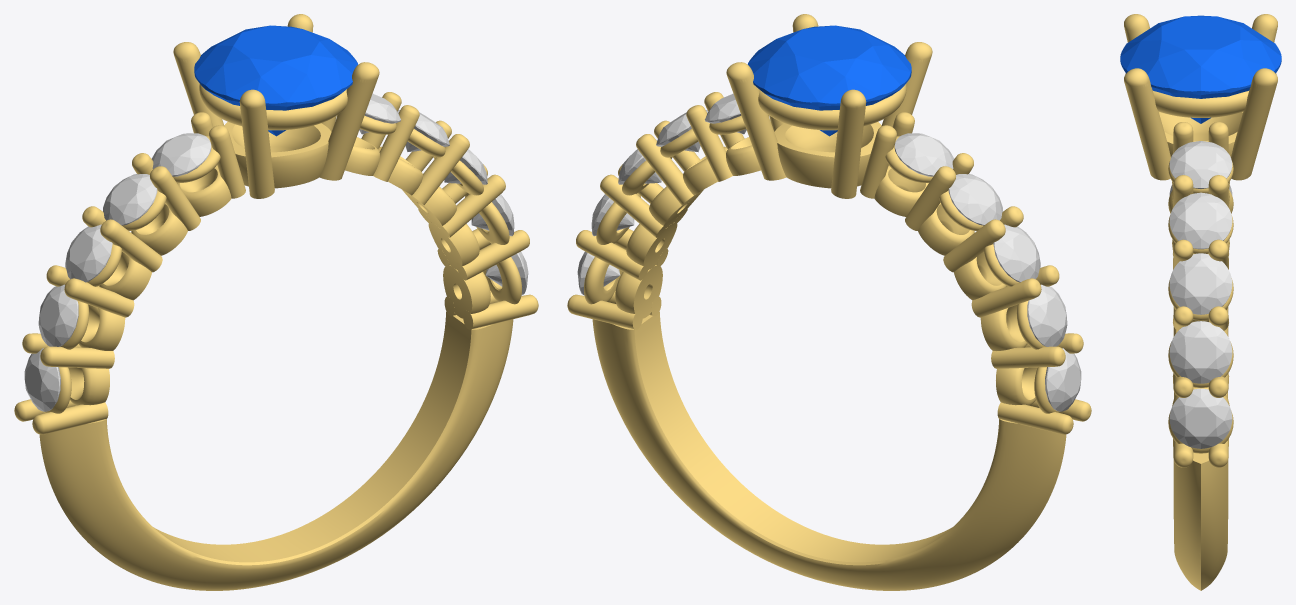
File: bluesapphire-round-yellowgold-4prong-knifeedge-11stone.glb
3 views of the same model, side by side, from view 1: azimuth 30°, elevation 25°; view 2: azimuth 150°, elevation 25°; view 3: azimuth 270°, elevation 25° (orthographic).
Visible parts, largest first — view 1: metal, stone, side.001, side.002, side.006, side, side.007, side.003, side.004; view 2: metal, stone, side.001, side.002, side.006, side, side.007, side.003, side.004; view 3: metal, stone, side.008, side.005, side.009, side.004, side.003.
Boxes of the visible parts, bbox=[...] form: metal: bbox=[14, 14, 538, 590]; stone: bbox=[194, 25, 358, 136]; side.001: bbox=[103, 174, 157, 225]; side.002: bbox=[65, 224, 112, 282]; side.006: bbox=[38, 284, 78, 346]; side: bbox=[152, 133, 211, 176]; side.007: bbox=[24, 348, 60, 411]; side.003: bbox=[359, 93, 400, 134]; side.004: bbox=[397, 110, 449, 151]; metal: bbox=[567, 14, 1091, 590]; stone: bbox=[747, 25, 911, 136]; side.001: bbox=[948, 174, 1002, 225]; side.002: bbox=[993, 224, 1040, 282]; side.006: bbox=[1027, 284, 1067, 346]; side: bbox=[894, 133, 953, 176]; side.007: bbox=[1045, 348, 1081, 411]; side.003: bbox=[705, 93, 746, 134]; side.004: bbox=[656, 110, 708, 152]; metal: bbox=[1124, 14, 1277, 590]; stone: bbox=[1120, 15, 1281, 123]; side.008: bbox=[1169, 321, 1232, 383]; side.005: bbox=[1169, 253, 1232, 314]; side.009: bbox=[1169, 388, 1232, 448]; side.004: bbox=[1169, 192, 1232, 249]; side.003: bbox=[1169, 141, 1232, 188].
Bounding box in the file's own units: 22.68 × 23.31 × 6.44.
